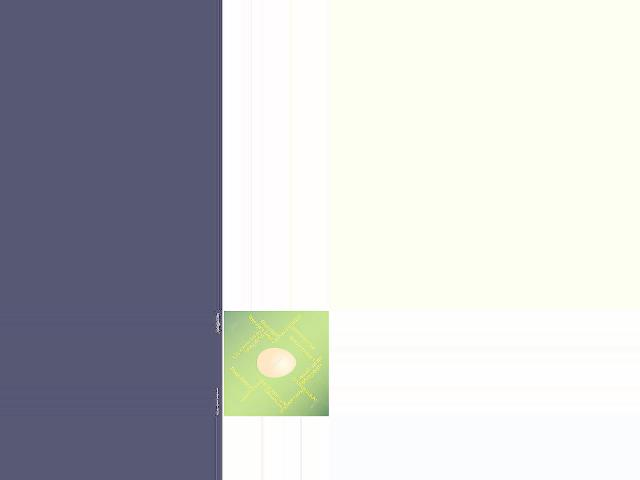egg: (257, 348, 295, 378)
